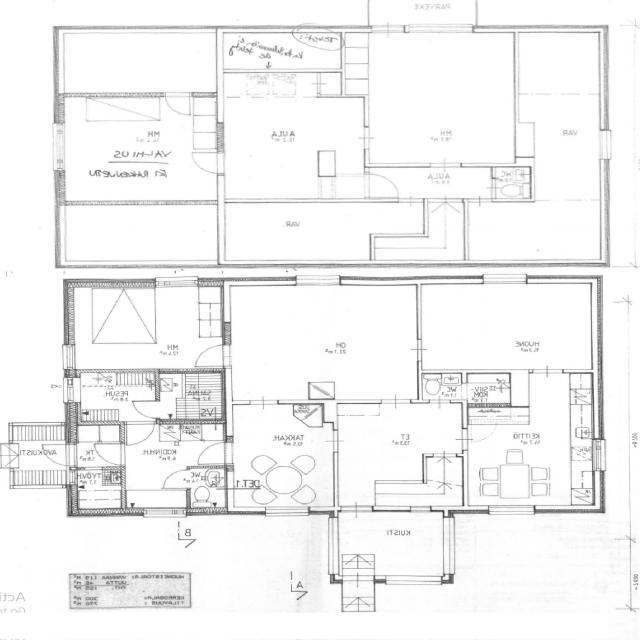door: (37, 444, 77, 466), (195, 442, 232, 464), (364, 174, 398, 197), (196, 345, 232, 366), (127, 421, 154, 444), (94, 444, 125, 464), (165, 92, 190, 116), (164, 470, 190, 488), (132, 401, 159, 418)
